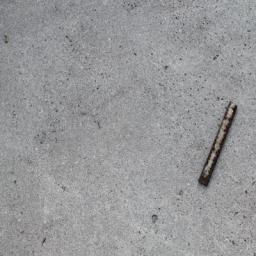FOD: (198, 101, 241, 189)
